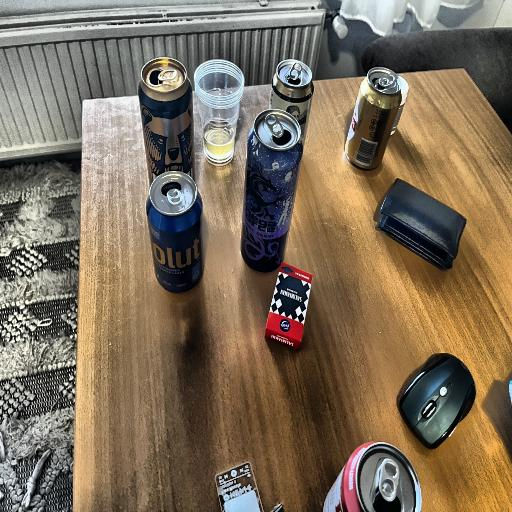A_LeCoq: (341, 70, 412, 170)
karhu: (138, 56, 202, 182)
koti: (146, 175, 206, 296)
sandels: (271, 61, 313, 138)
